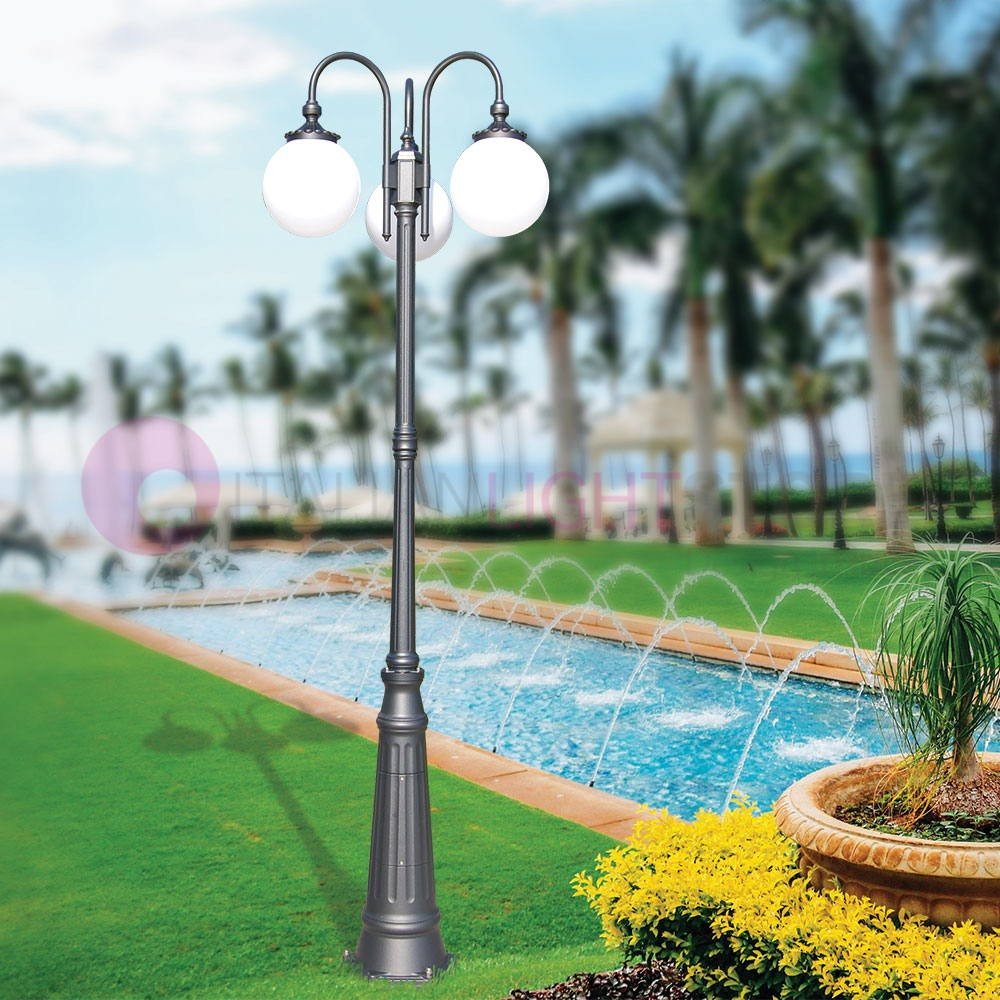Lamp: (265, 29, 548, 978)
